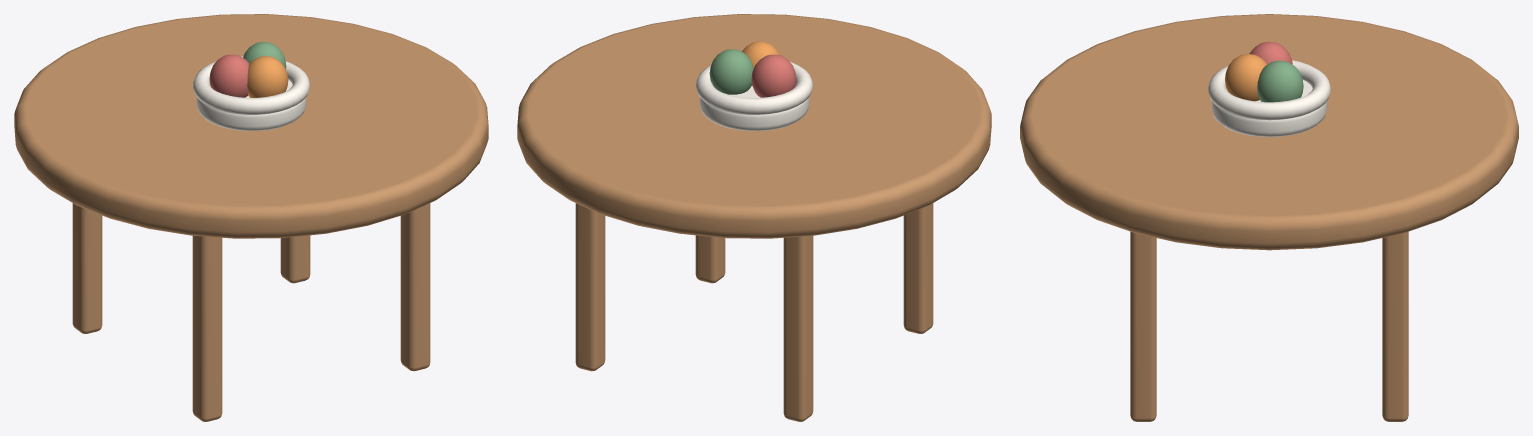
File: kitchenDiningTable.glb
The picture shows the model from 3 angles, left to right: view 1: azimuth 30°, elevation 25°; view 2: azimuth 150°, elevation 25°; view 3: azimuth 270°, elevation 25°; orthographic projection. The views are drawn at different scales.
Visible parts, largest first — view 1: Round oak tabletop, Tapered table leg, Tapered table leg.002, Tapered table leg.001, Bowl rim, Ceramic fruit bowl, Fruit.002, Fruit, Tapered table leg.003, Fruit.001; view 2: Round oak tabletop, Tapered table leg.001, Tapered table leg.003, Tapered table leg, Bowl rim, Ceramic fruit bowl, Fruit.001, Fruit, Tapered table leg.002, Fruit.002; view 3: Round oak tabletop, Tapered table leg.002, Tapered table leg.003, Bowl rim, Ceramic fruit bowl, Fruit.001, Fruit.002, Fruit.
Boxes of the visible parts, box(x1,y1,x2,y2) form: Round oak tabletop: box(14, 14, 488, 238); Tapered table leg: box(192, 235, 222, 421); Tapered table leg.002: box(400, 203, 430, 371); Tapered table leg.001: box(72, 203, 102, 333); Bowl rim: box(193, 56, 309, 114); Ceramic fruit bowl: box(196, 79, 306, 130); Fruit.002: box(247, 56, 288, 97); Fruit: box(209, 54, 249, 97); Tapered table leg.003: box(280, 235, 310, 283); Fruit.001: box(243, 42, 286, 69); Round oak tabletop: box(517, 14, 991, 238); Tapered table leg.001: box(783, 235, 813, 421); Tapered table leg.003: box(575, 203, 605, 371); Tapered table leg: box(903, 203, 933, 333); Bowl rim: box(696, 61, 812, 114); Ceramic fruit bowl: box(699, 86, 809, 130); Fruit.001: box(709, 49, 753, 94); Fruit: box(751, 54, 796, 97); Tapered table leg.002: box(695, 235, 725, 283); Fruit.002: box(742, 41, 779, 85); Round oak tabletop: box(1020, 14, 1518, 250); Tapered table leg.002: box(1130, 231, 1156, 421); Tapered table leg.003: box(1382, 231, 1408, 421); Bowl rim: box(1208, 60, 1330, 120); Ceramic fruit bowl: box(1211, 80, 1327, 137); Fruit.001: box(1257, 60, 1303, 102); Fruit.002: box(1225, 54, 1267, 101); Fruit: box(1249, 41, 1292, 64).
Size of the model in its own units: 1.9 by 1.31 by 1.9.
